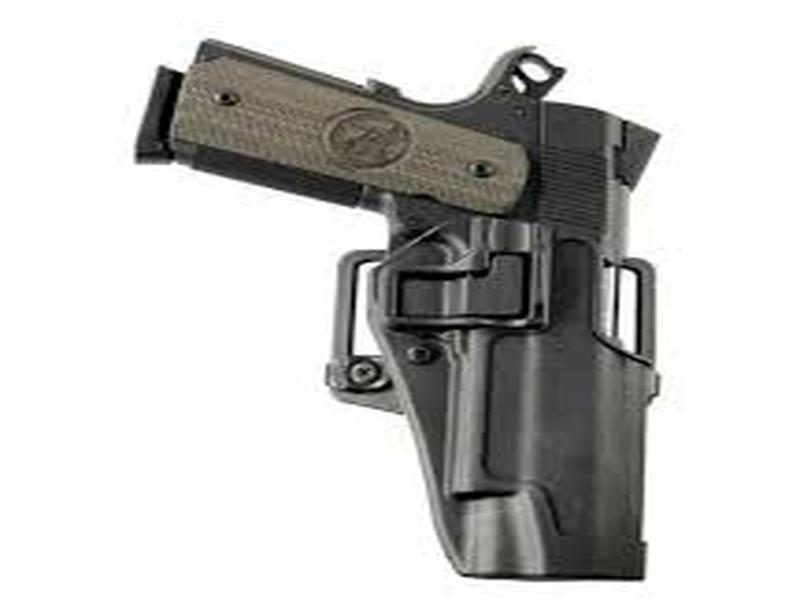gun: (131, 39, 655, 585)
